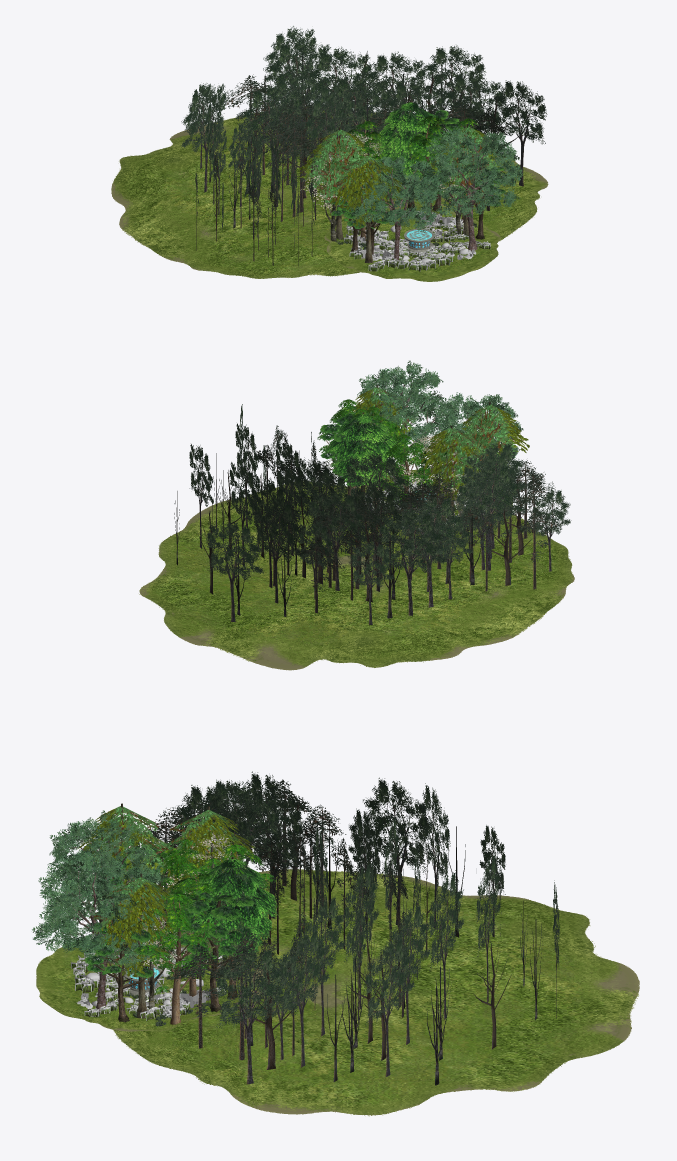
File: Sc_BoHeXianSheng_0317.fbx
The picture shows the model from 3 angles, top to bottom: view 1: azimuth 30°, elevation 25°; view 2: azimuth 150°, elevation 25°; view 3: azimuth 270°, elevation 25°; orthographic projection. The views are drawn at different scales.
Visible parts, largest first — view 1: ground2, tree_bg1, tree_bg2, AM113 (×2), b18 (×2), tree_bg0, b14 (×2), ground1, bushe2, b16, b21 (×2), desk02 (+1 smaller); view 2: ground2, tree_bg2, tree_bg1, tree_bg0, AM113, b18, b14, b16, b21; view 3: ground2, tree_bg1, tree_bg2, tree_bg0, AM113 (×2), b14 (×2), b18, b16 (×2), ground1, bushe2, b21.
Boxes of the visible parts, x1=… form: ground2: x1=111, y1=107, x2=548, y2=278; tree_bg1: x1=195, y1=72, x2=547, y2=250; tree_bg2: x1=181, y1=26, x2=489, y2=204; AM113 (×2): x1=351, y1=126, x2=523, y2=259; b18 (×2): x1=299, y1=124, x2=508, y2=263; tree_bg0: x1=244, y1=89, x2=504, y2=265; b14 (×2): x1=328, y1=100, x2=505, y2=254; ground1: x1=324, y1=203, x2=500, y2=281; bushe2: x1=344, y1=211, x2=490, y2=271; b16: x1=344, y1=116, x2=502, y2=221; b21 (×2): x1=300, y1=132, x2=464, y2=241; desk02: x1=404, y1=228, x2=434, y2=252; ground2: x1=139, y1=481, x2=574, y2=670; tree_bg2: x1=174, y1=444, x2=467, y2=624; tree_bg1: x1=235, y1=404, x2=571, y2=599; tree_bg0: x1=276, y1=432, x2=558, y2=570; AM113: x1=357, y1=360, x2=523, y2=457; b18: x1=351, y1=387, x2=529, y2=500; b14: x1=320, y1=411, x2=500, y2=492; b16: x1=317, y1=399, x2=468, y2=510; b21: x1=384, y1=430, x2=483, y2=498; ground2: x1=113, y1=869, x2=639, y2=1116; tree_bg1: x1=204, y1=779, x2=420, y2=1084; tree_bg2: x1=327, y1=777, x2=559, y2=1085; tree_bg0: x1=141, y1=771, x2=328, y2=1048; AM113 (×2): x1=32, y1=810, x2=167, y2=1011; b14 (×2): x1=84, y1=845, x2=278, y2=1022; b18: x1=76, y1=806, x2=255, y2=976; b16 (×2): x1=137, y1=839, x2=278, y2=1024; ground1: x1=36, y1=932, x2=264, y2=1031; bushe2: x1=70, y1=932, x2=229, y2=1020; b21: x1=142, y1=833, x2=265, y2=969.
Size of the model in its own units: 5551 by 1767 by 5631.
